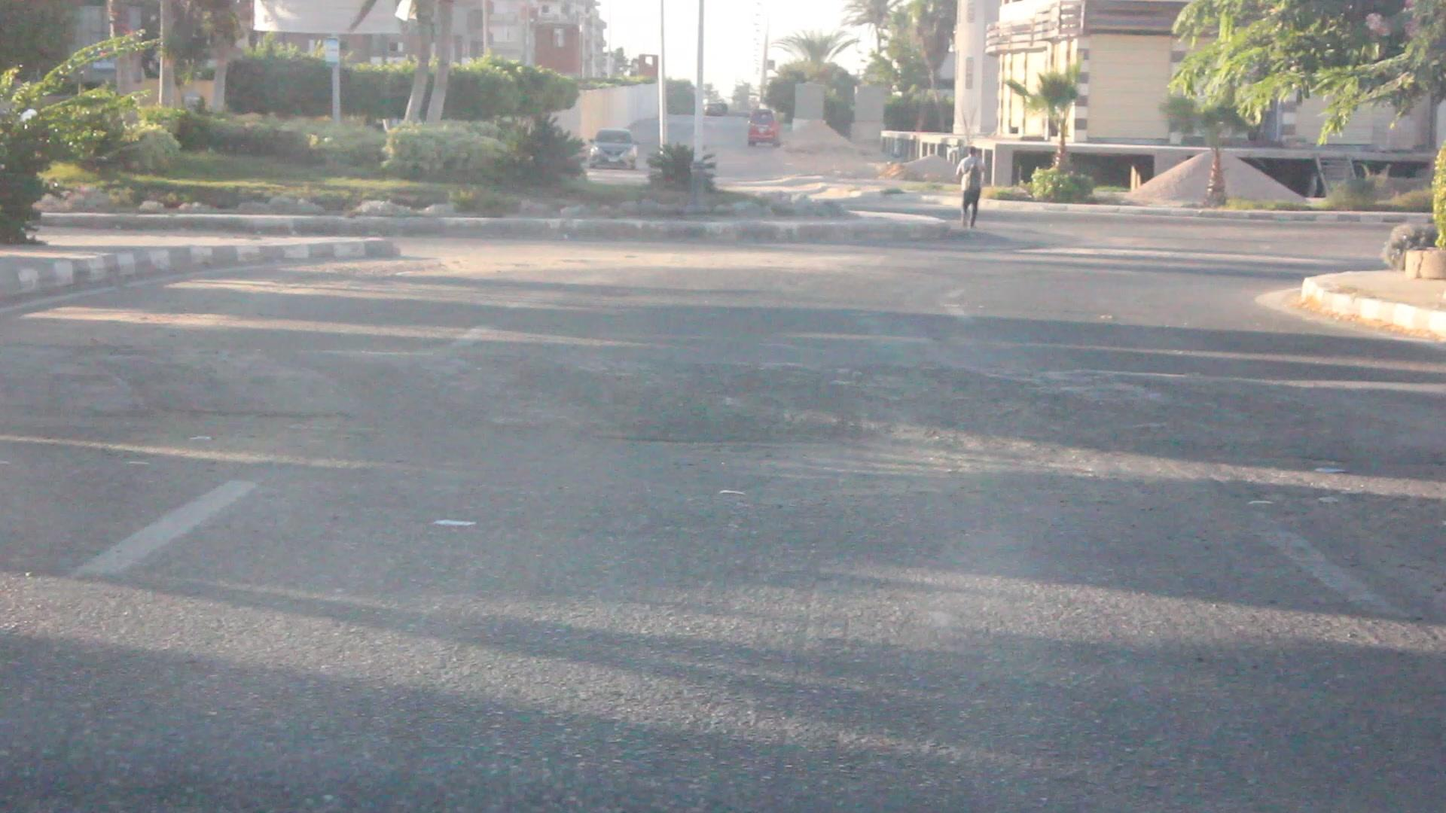Bump: (13, 331, 1446, 465)
